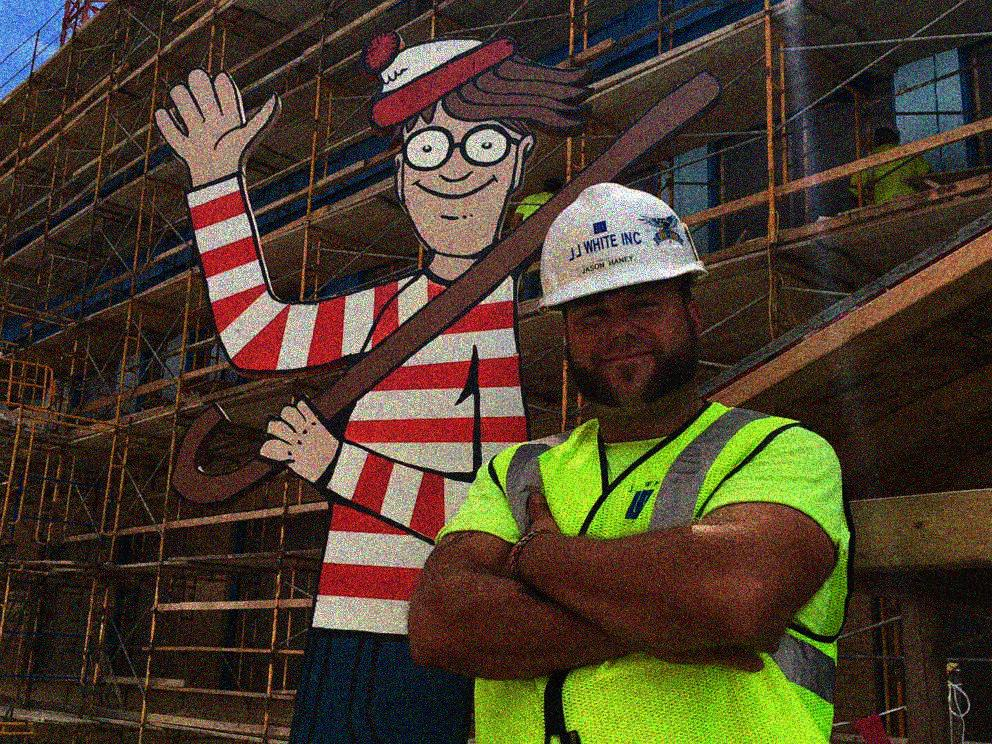helmet: (537, 179, 708, 409)
